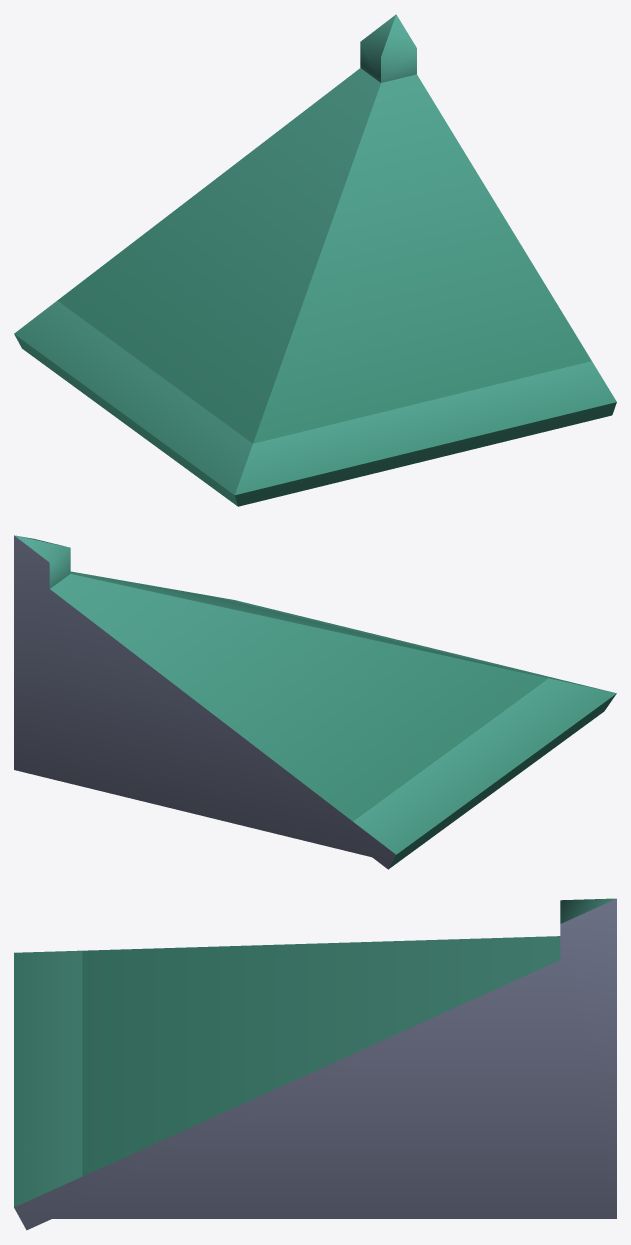
Rendered from town-roof-corner.glb.
The picture shows the model from 3 angles, top to bottom: view 1: azimuth 30°, elevation 25°; view 2: azimuth 150°, elevation 25°; view 3: azimuth 270°, elevation 25°; orthographic projection. The views are drawn at different scales.
Visible parts, largest first — view 1: town-roof-corner; view 2: town-roof-corner; view 3: town-roof-corner.
Part boxes in pixels (bbox=[...]): town-roof-corner: bbox=[14, 14, 616, 506]; town-roof-corner: bbox=[14, 535, 616, 869]; town-roof-corner: bbox=[14, 898, 616, 1230].
Bounding box in the file's own units: 1.07 × 0.6483 × 1.07.
